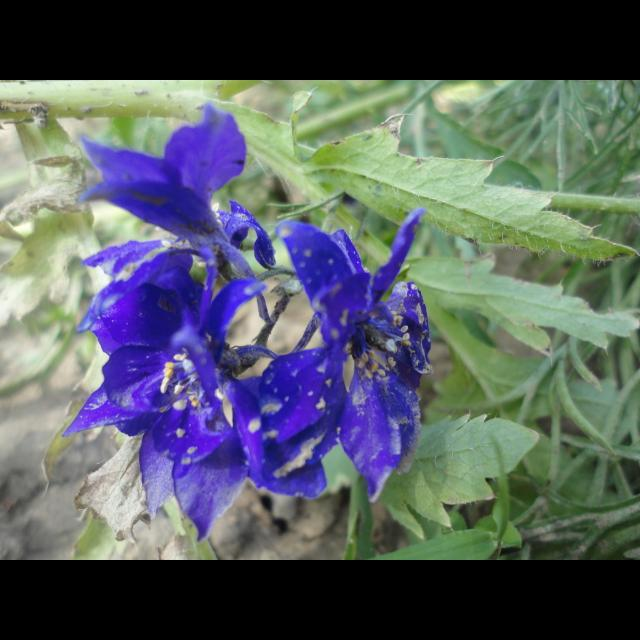Flower: (216, 192, 436, 516), (53, 241, 267, 543), (66, 98, 280, 286)
